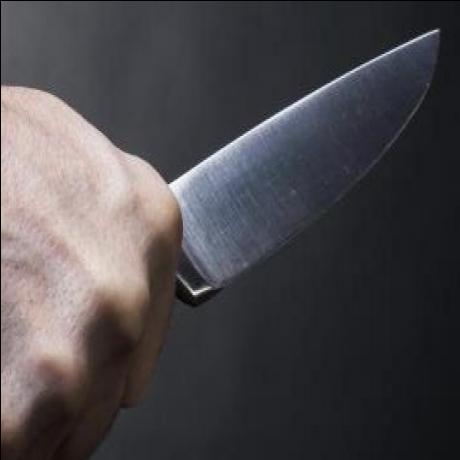1: (0, 75, 182, 460)
weapon: (176, 21, 442, 294)
